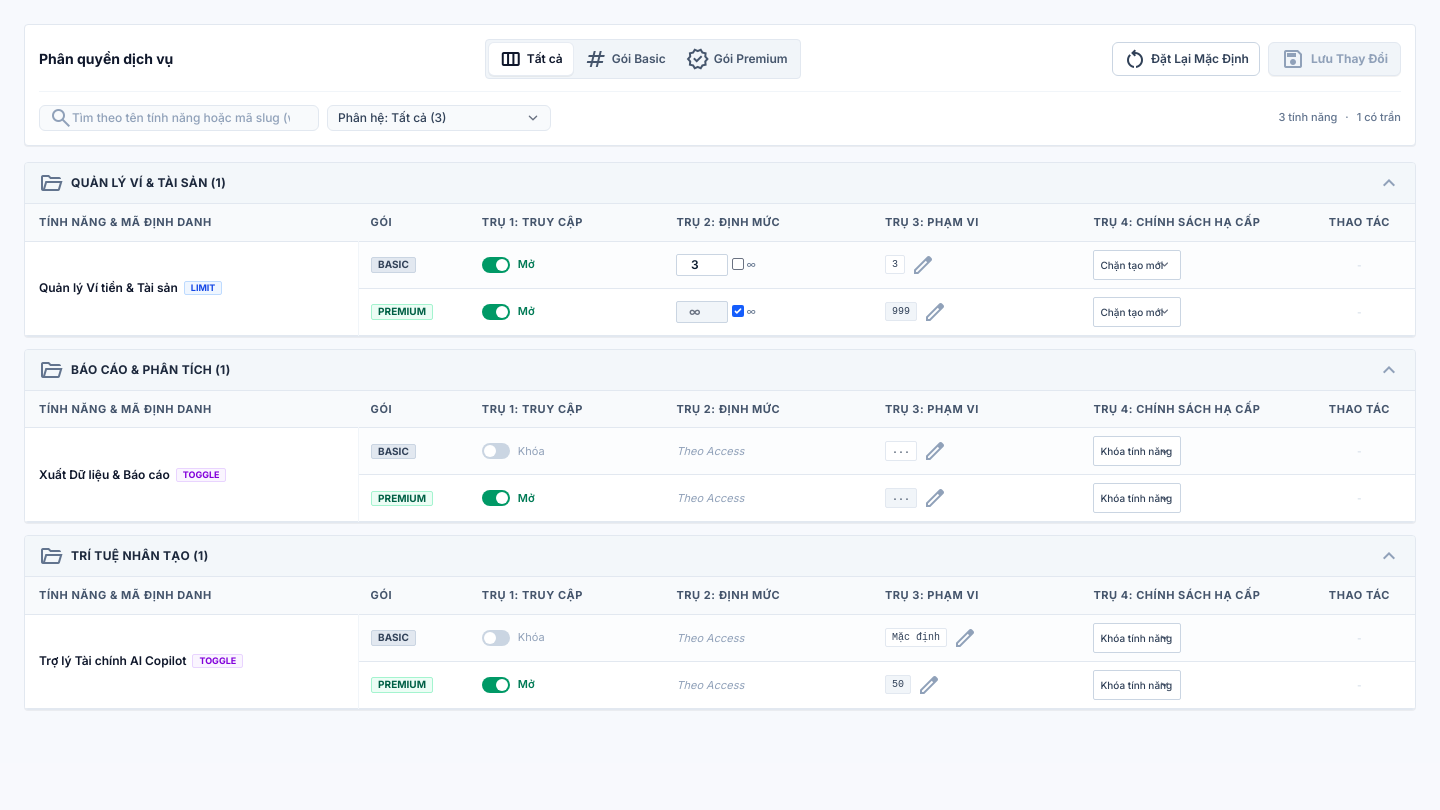
Test: Admin-web 4 Pillars Permission Suite — 2-Tier Testing (Rule 11 Compliance) › 🧱 TẦNG 1: Kiểm thử hiển thị bảng mật độ cao & tương tác giao diện › 1.3. Mở Drawer Inspector Trụ 3 & 4 khi bấm nút Scope & Policy
The width and height of the screenshot is (1440, 810).
Expected: the text "Quản lý Ví tiền & Tài sản" is shown, [39, 280, 178, 296]
// Bấm nút cấu hình của tính năng đầu tiên (wallets - Basic)
Click the button titled "Cấu hình Trụ 3" at (923, 264), box [909, 250, 937, 278]
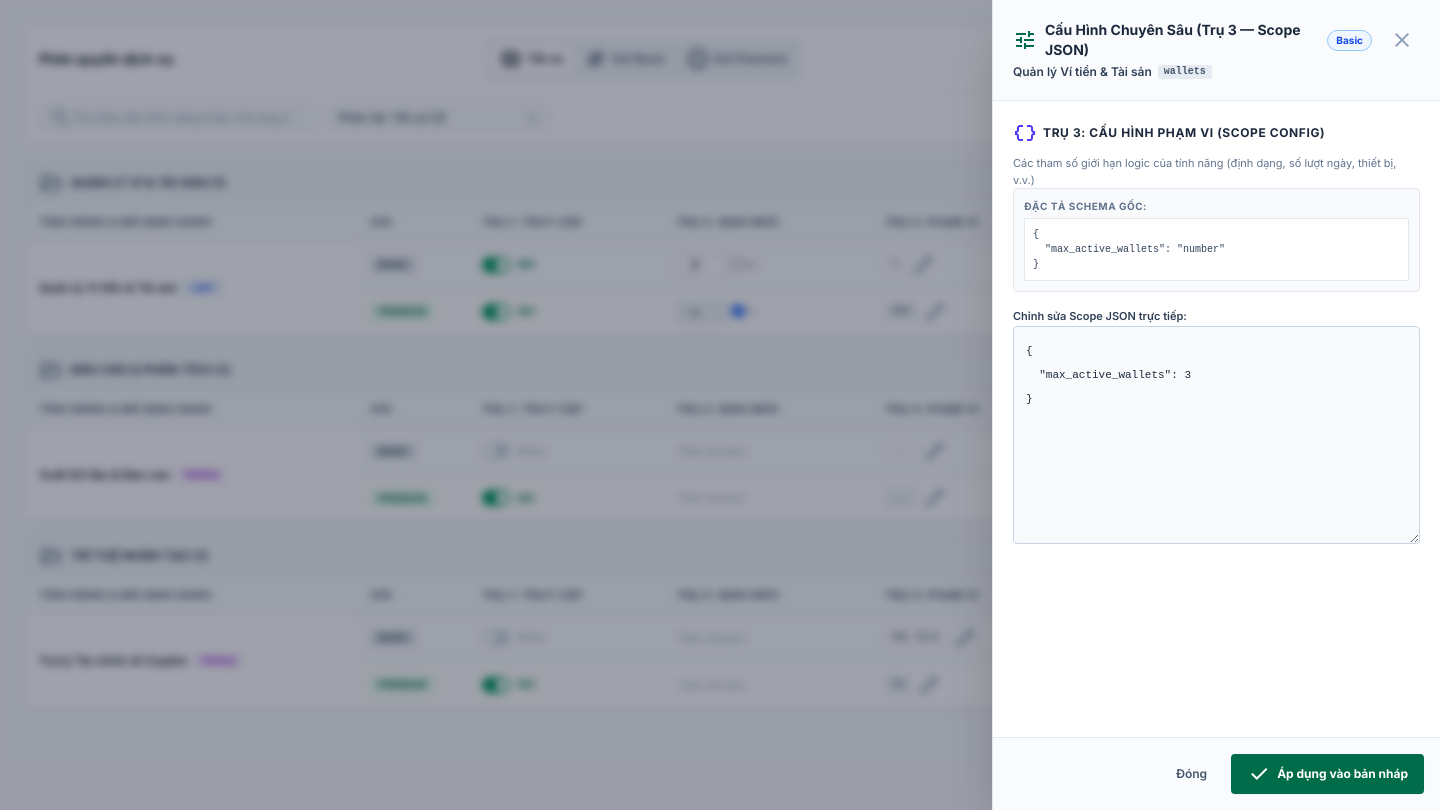
Expected: the heading "Cấu Hình Chuyên Sâu (Trụ 3 — Scope JSON)" is shown, [1045, 20, 1319, 60]
Expected: the text box with test id "textarea-scope-json" is shown, [1013, 326, 1420, 544]
// Đóng Drawer bằng btn-close-drawer
Click the button with test id "btn-close-drawer" at (1402, 39), box [1384, 20, 1420, 58]
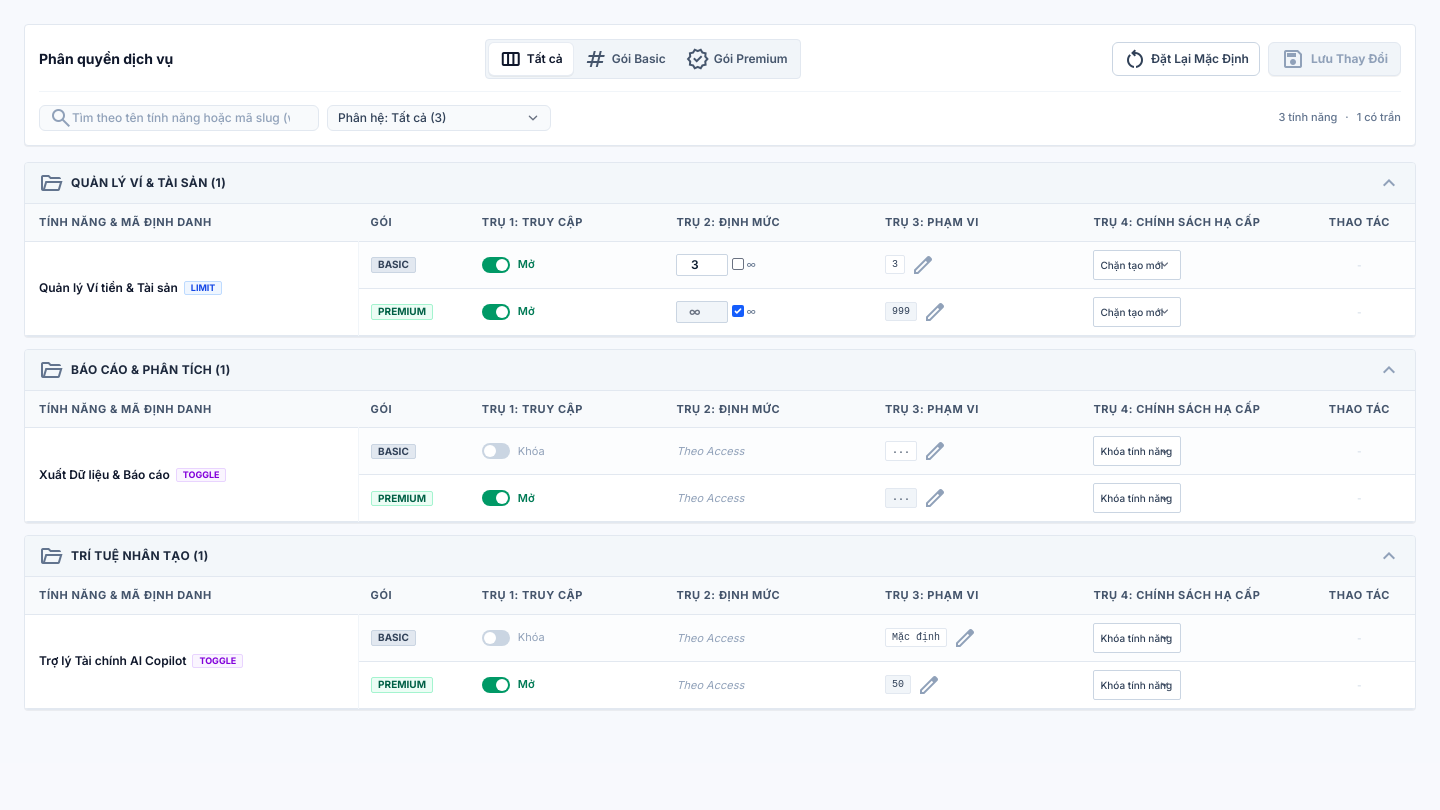
Expected: the heading "Cấu Hình Chuyên Sâu (Trụ 3" is gone
